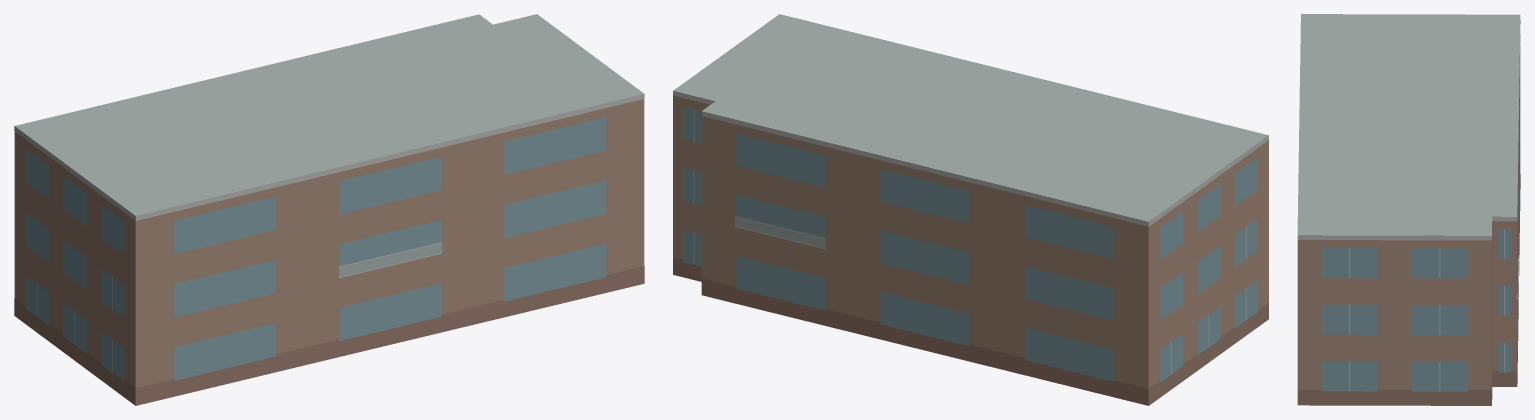
Rendered from survey-upis-32994543.glb.
3 renders of one model, left to right at view 1: azimuth 30°, elevation 25°; view 2: azimuth 150°, elevation 25°; view 3: azimuth 270°, elevation 25°, orthographic. The views are drawn at different scales.
Parts seen in each view (by area): view 1: survey-upis-32994543.tmp; view 2: survey-upis-32994543.tmp; view 3: survey-upis-32994543.tmp.
Part boxes in pixels (bbox=[...]): survey-upis-32994543.tmp: bbox=[14, 14, 644, 405]; survey-upis-32994543.tmp: bbox=[673, 14, 1268, 405]; survey-upis-32994543.tmp: bbox=[1297, 14, 1520, 405].
Size of the model in its own units: 25.63 by 9.15 by 10.89.
